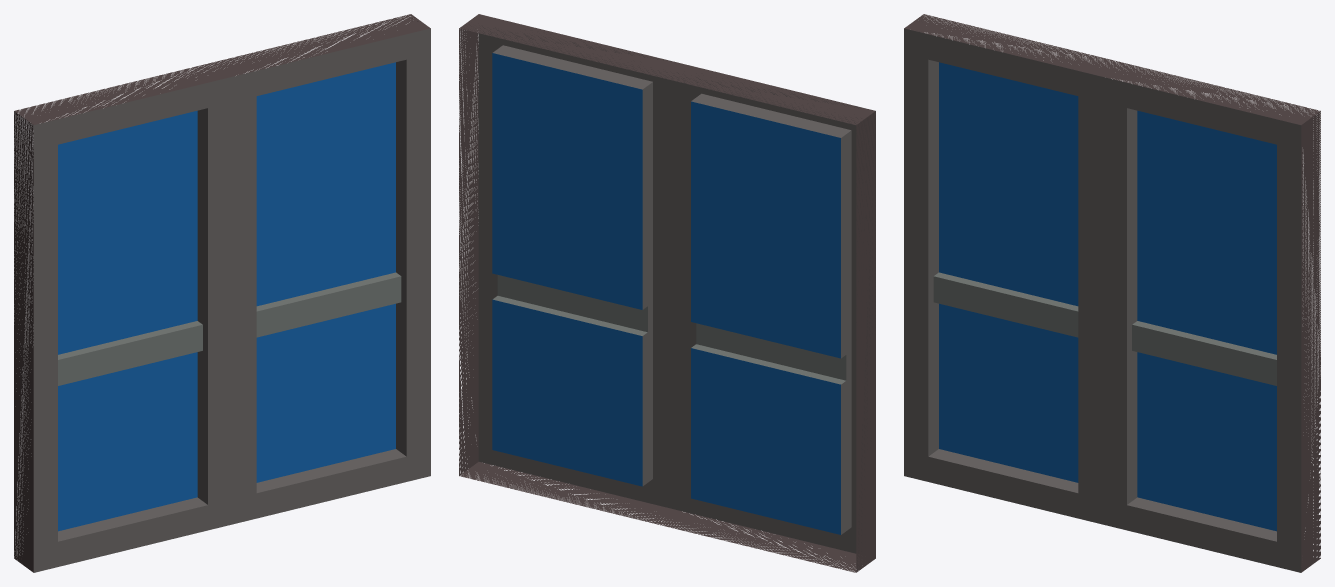
The model's file is Door_00.fbx.
3 views of the same model, side by side, from view 1: azimuth 30°, elevation 25°; view 2: azimuth 150°, elevation 25°; view 3: azimuth 330°, elevation 25° (orthographic).
Parts seen in each view (by area): view 1: Door_00; view 2: Door_00; view 3: Door_00.
Part boxes in pixels (<box>): Door_00: <box>14,14,430,572</box>; Door_00: <box>459,14,875,572</box>; Door_00: <box>904,14,1320,572</box>.
Bounding box in the file's own units: 275 × 297 × 23.64.
